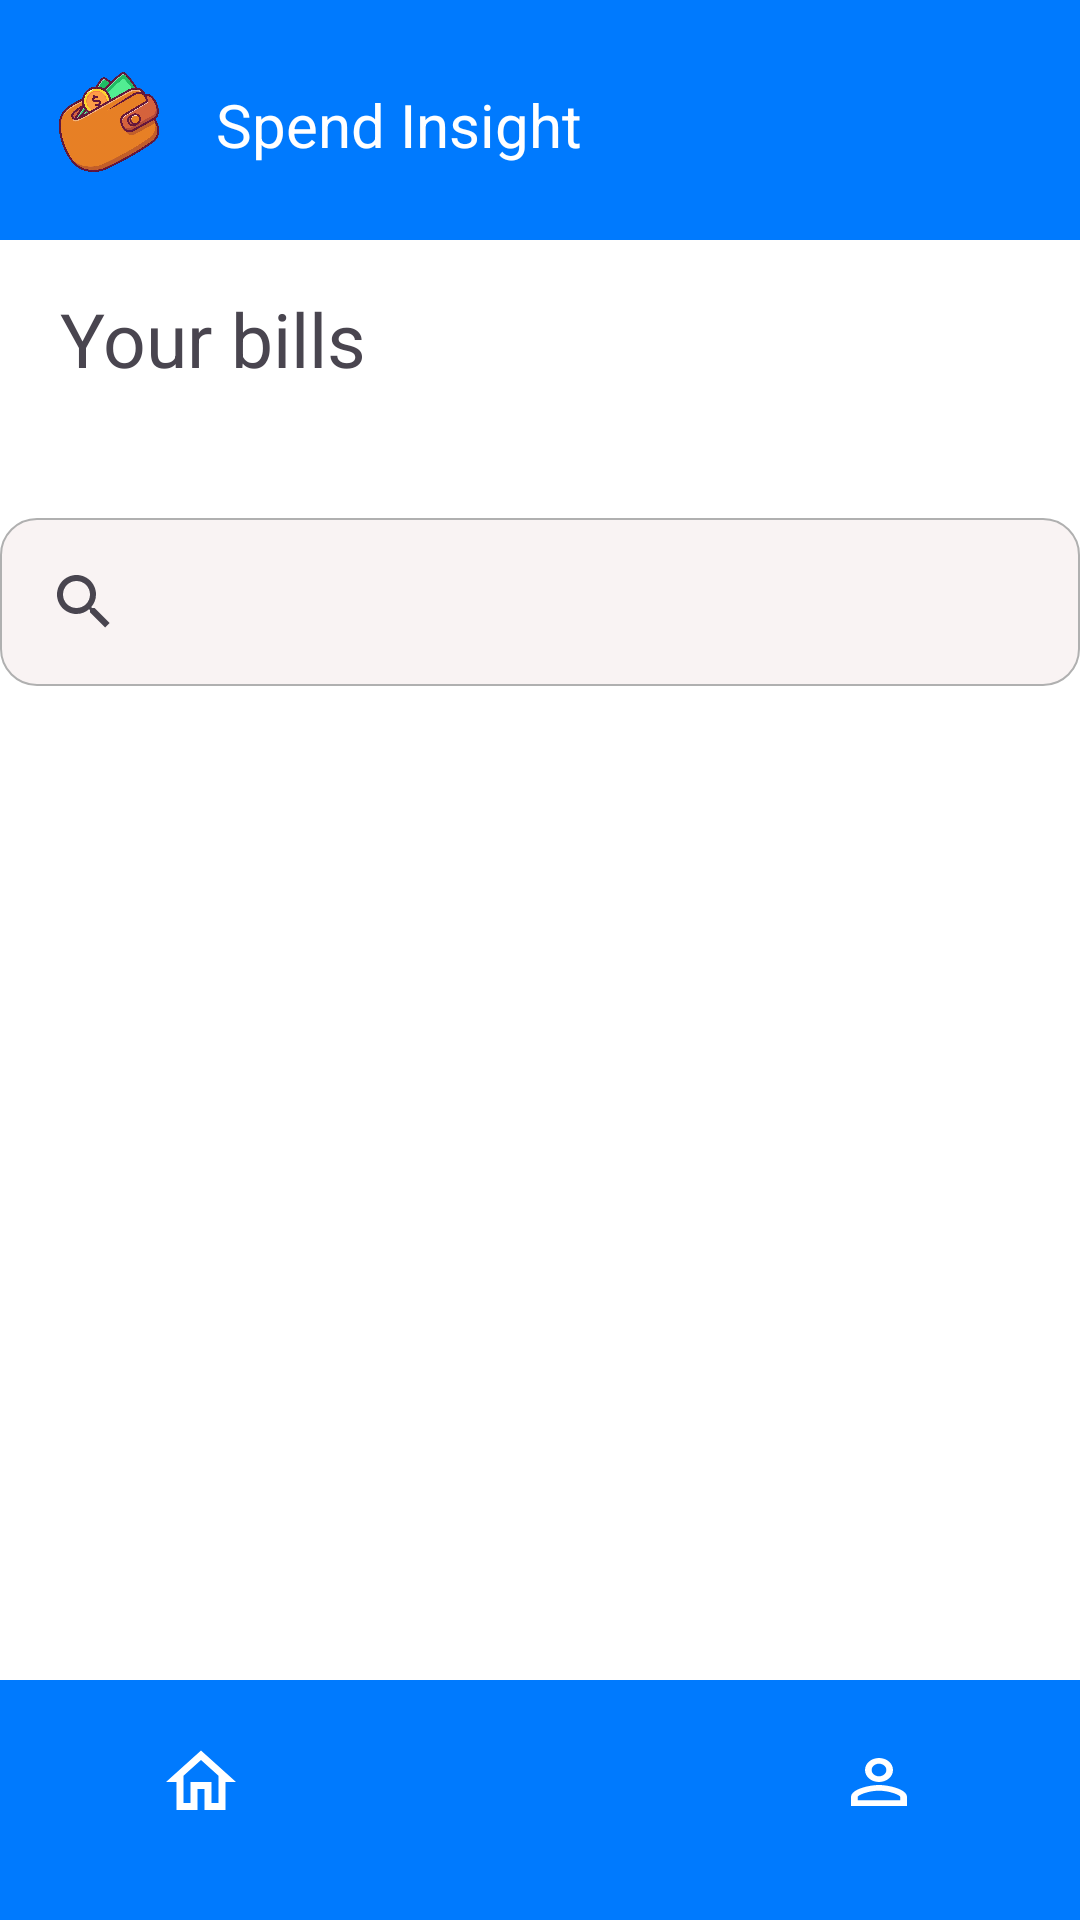

Icon click points for this 1080×1920 phone screenshot, format (x,y):
home: (201,1780)
person: (879,1782)
